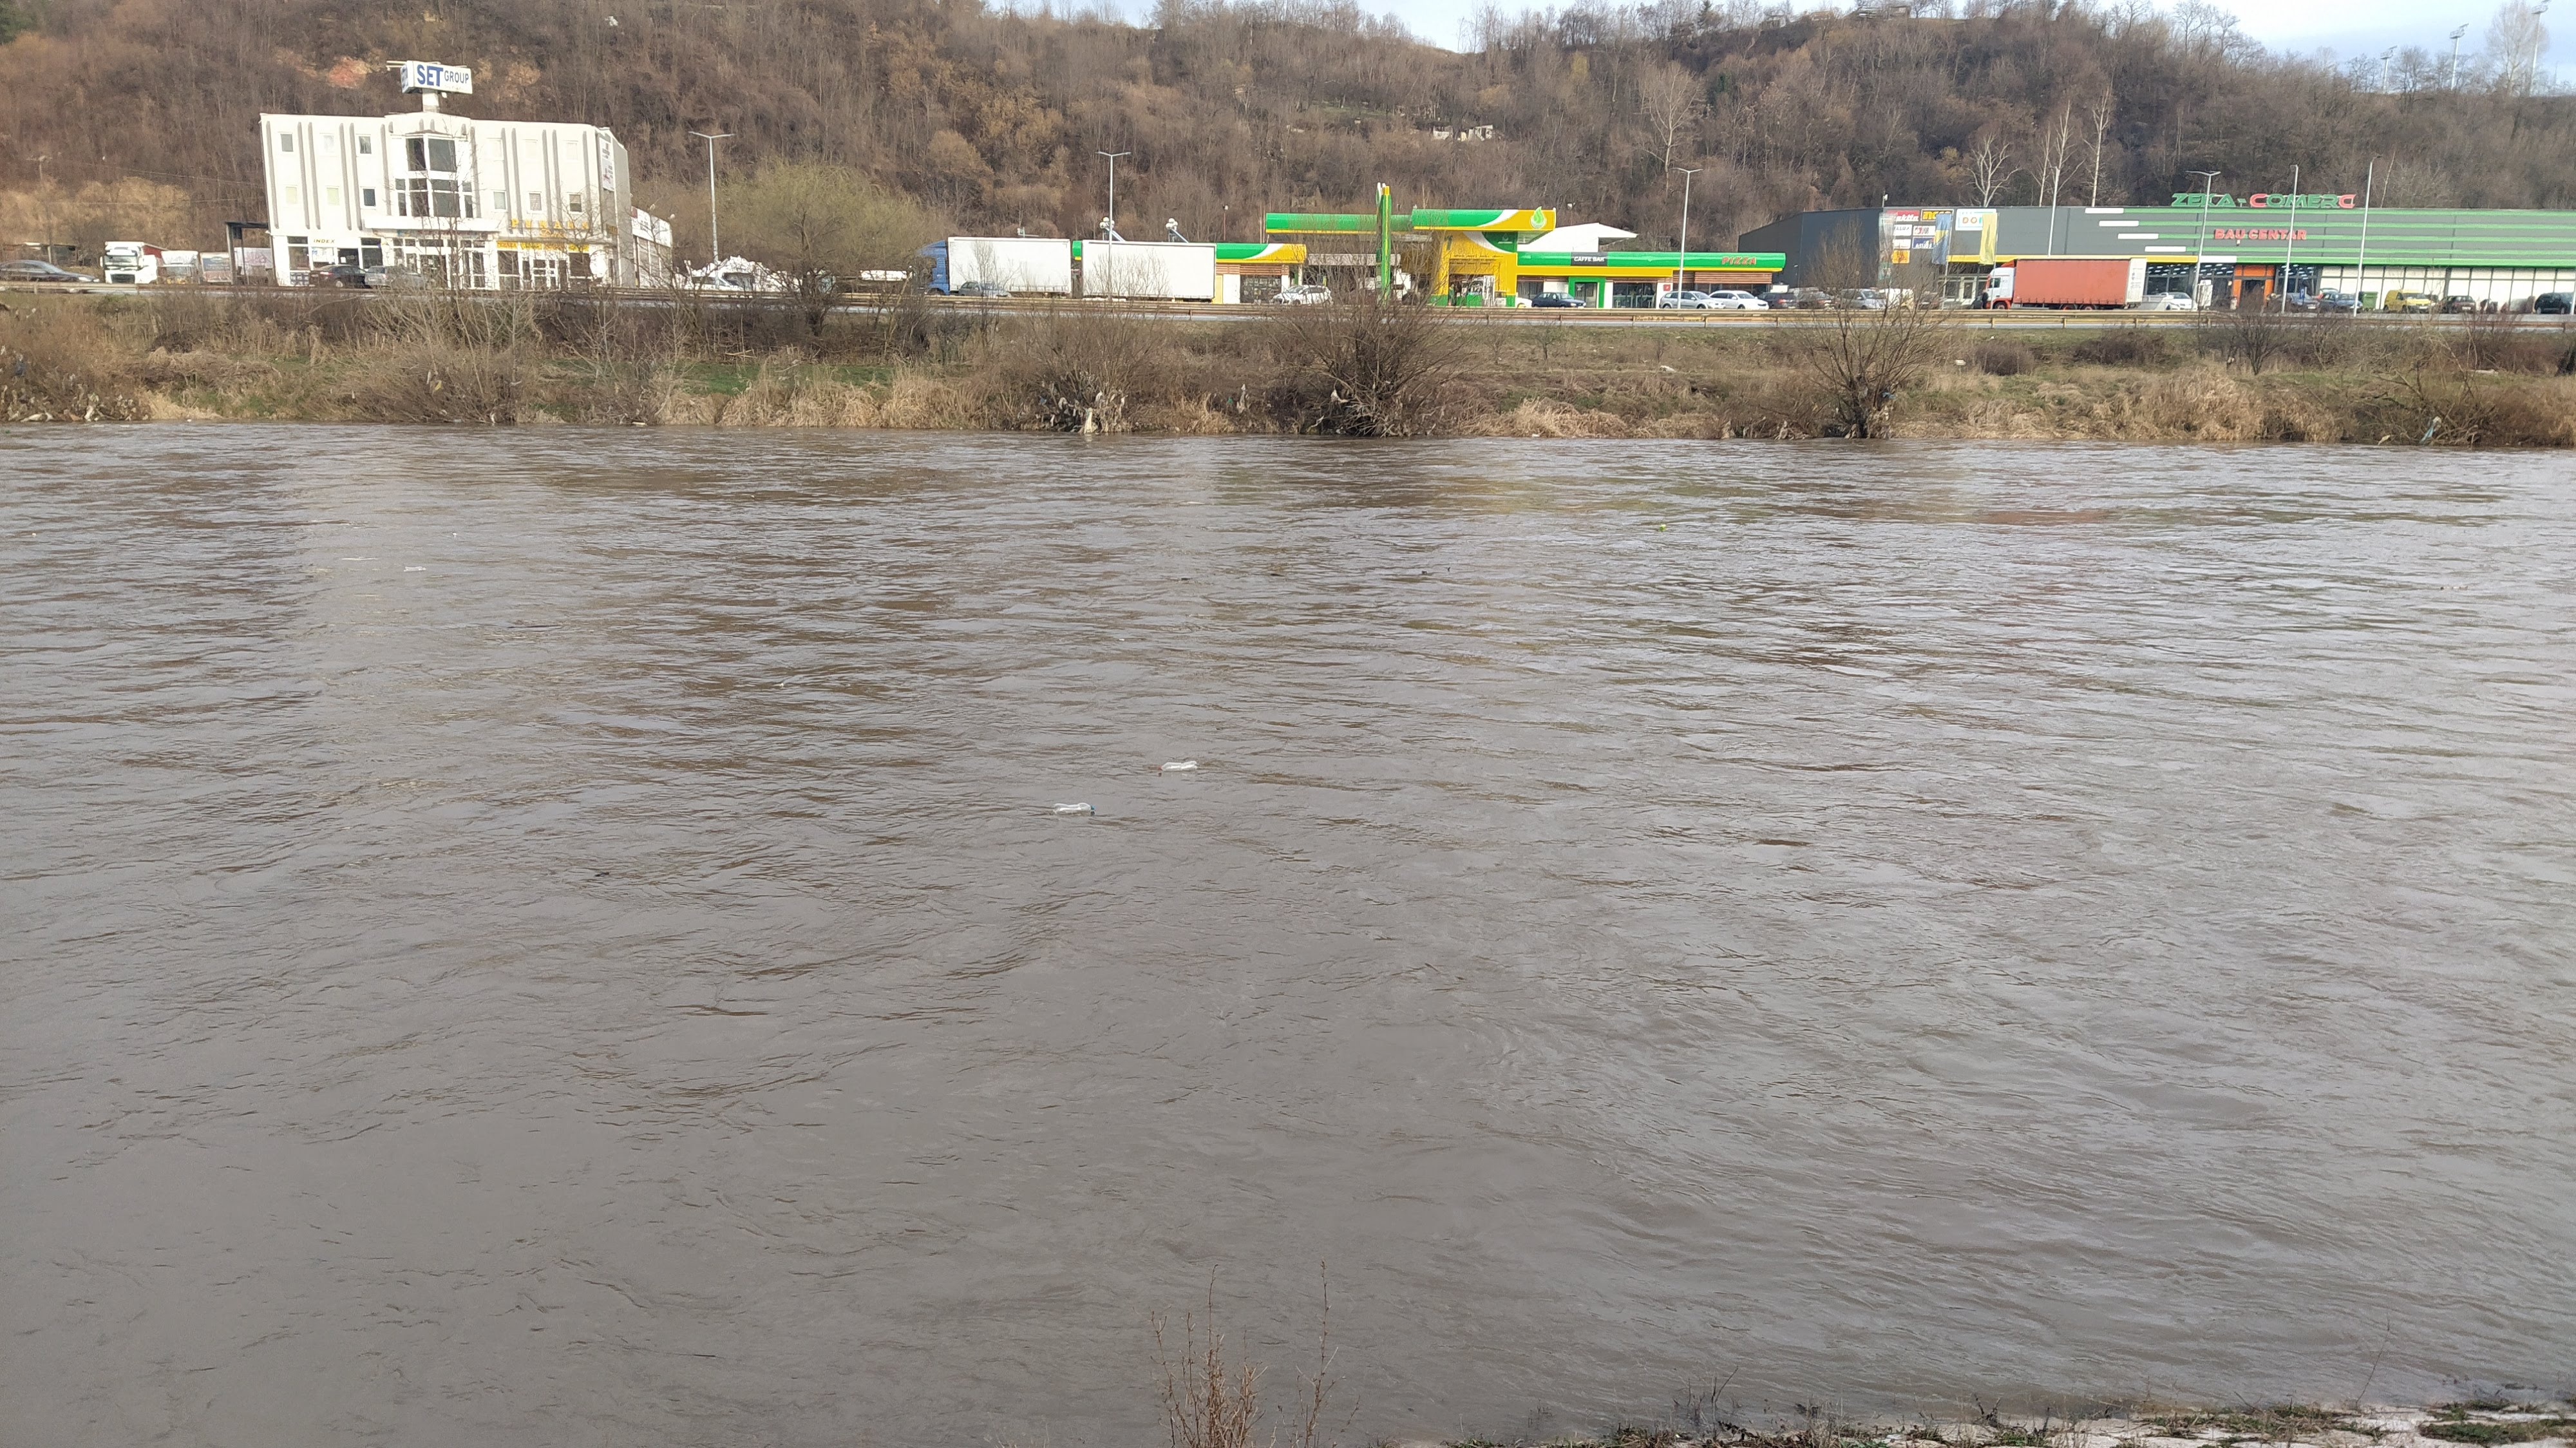Plastic Bottle: (1053, 802, 1095, 814), (1157, 759, 1198, 772), (780, 674, 805, 685), (403, 565, 426, 572), (1660, 524, 1667, 529), (453, 420, 462, 423), (1532, 434, 1539, 437)
